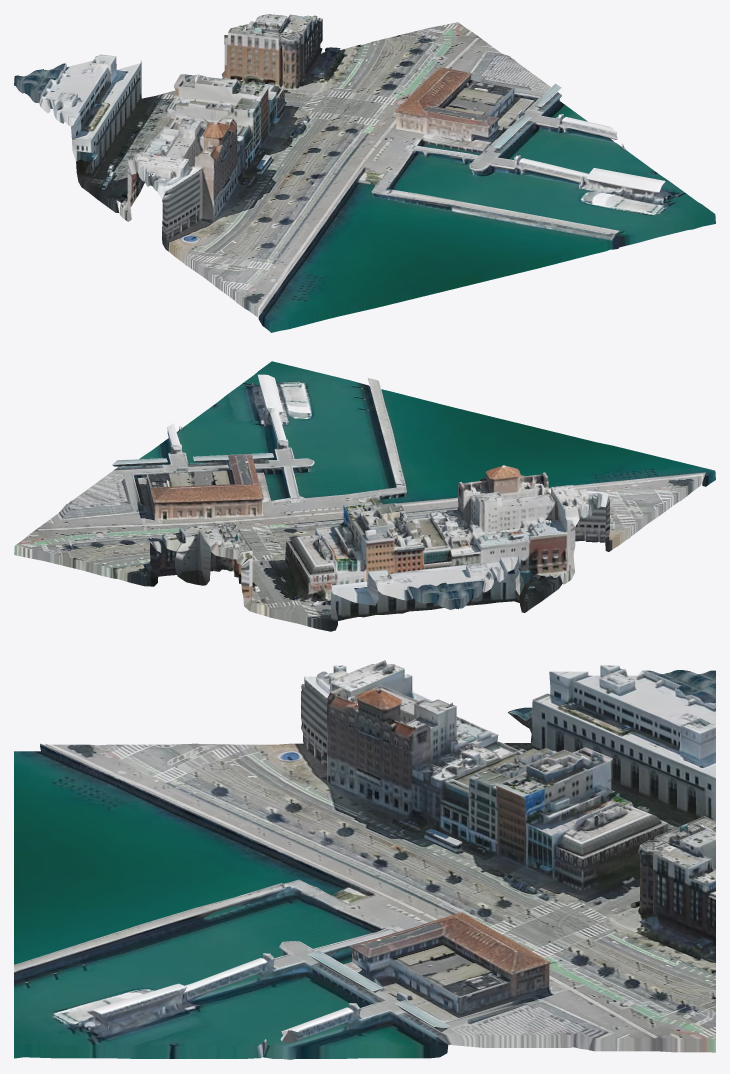
Rendered from z17-20974-50653-h0-yup-uvflip-v3-world.glb.
The picture shows the model from 3 angles, top to bottom: view 1: azimuth 30°, elevation 25°; view 2: azimuth 150°, elevation 25°; view 3: azimuth 270°, elevation 25°; orthographic projection. The views are drawn at different scales.
Bounding box in the file's own units: 242 × 48.96 × 243.
1 material, 1 textured.
